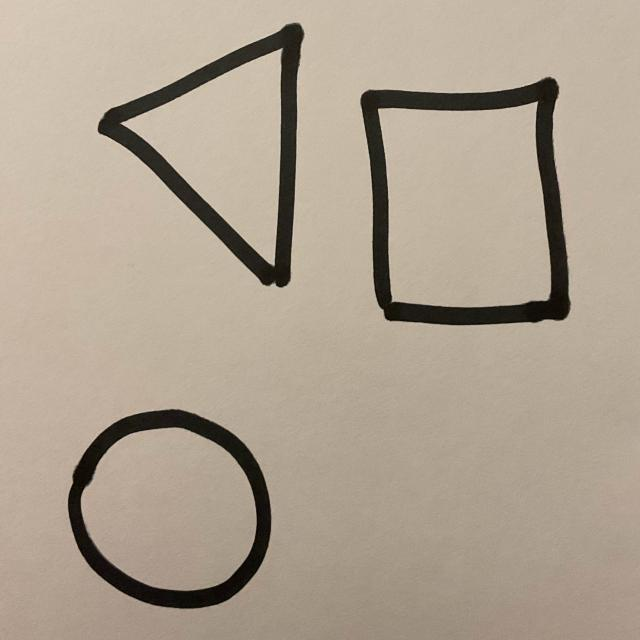Dreieck: (96, 23, 305, 290)
Kreis: (66, 409, 273, 613)
Quadrat: (359, 78, 572, 328)
